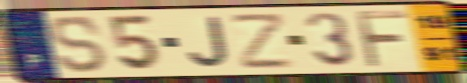3: (304, 11, 356, 69)
5: (105, 13, 163, 74)
F: (352, 9, 411, 70)
J: (184, 14, 232, 69)
S: (49, 14, 111, 75)
Z: (228, 11, 296, 71)
